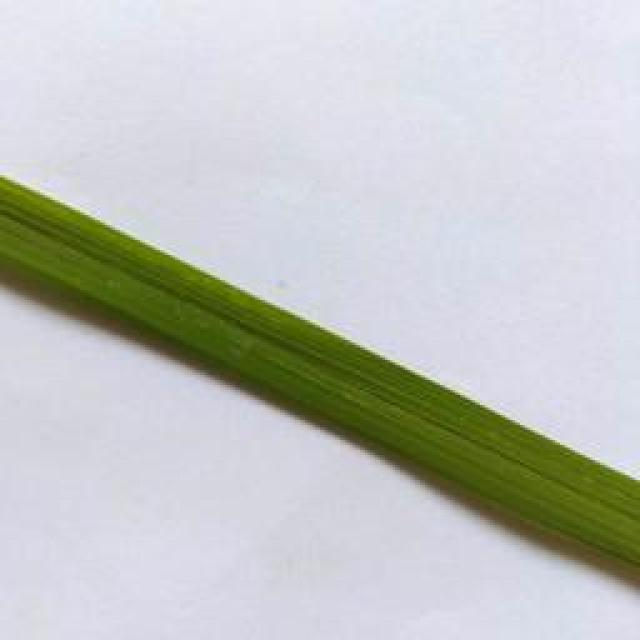Healthy-Plant: (0, 176, 640, 569)
